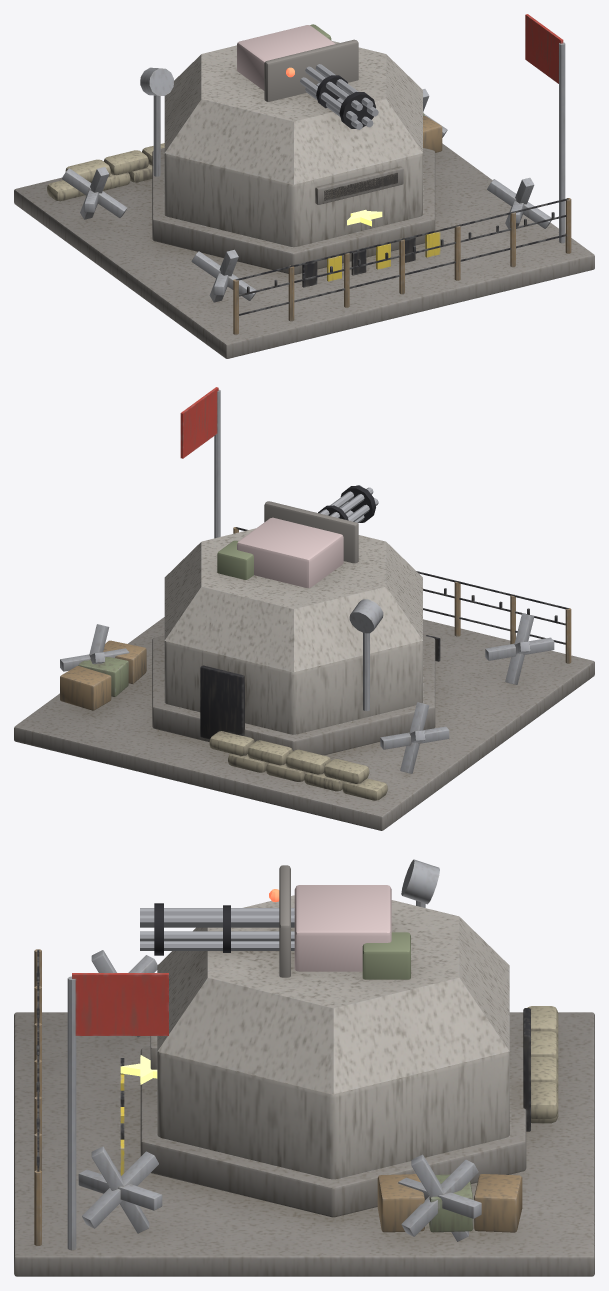
Rendered from red_defense.glb.
The picture shows the model from 3 angles, top to bottom: view 1: azimuth 30°, elevation 25°; view 2: azimuth 150°, elevation 25°; view 3: azimuth 270°, elevation 25°; orthographic projection. The views are drawn at different scales.
Parts seen in each view (by area): view 1: Hull, Turret, Barrel; view 2: Hull, Turret, Barrel; view 3: Hull, Turret, Barrel.
Part boxes in pixels (x1,y1,x2,y2): Hull: (14, 14, 594, 358); Turret: (237, 24, 358, 101); Barrel: (300, 64, 378, 129); Hull: (14, 387, 594, 830); Turret: (217, 501, 358, 587); Barrel: (318, 485, 378, 523); Hull: (14, 859, 594, 1276); Turret: (269, 865, 410, 979); Barrel: (140, 903, 294, 955).
Size of the model in its own units: 6 by 3.37 by 6.
17 materials, 10 textured.
